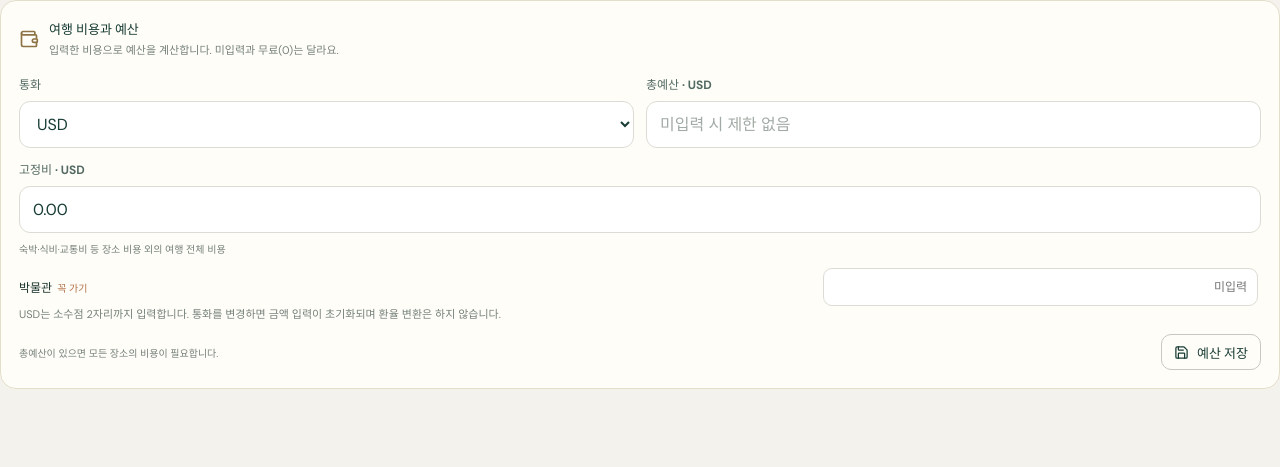
BudgetPlanner › loads prices, blocks unsaved planning, and saves exact decimal amounts
This screenshot has width=1280, height=467.
Expected: the field named "박물관 예상 비용" is shown, left=823, top=268, right=1258, bottom=306
Type "100.99" into the field labelled "총예산" at (954, 124), box left=646, top=101, right=1261, bottom=148
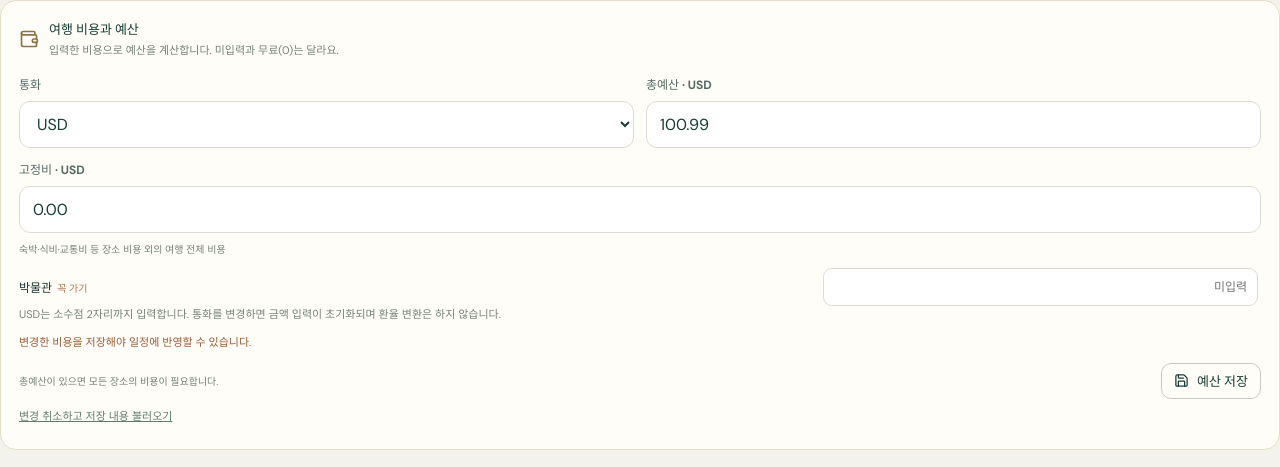
Replace the text in the field labelled "고정비" with "12.30" at (640, 209), box left=19, top=186, right=1261, bottom=233
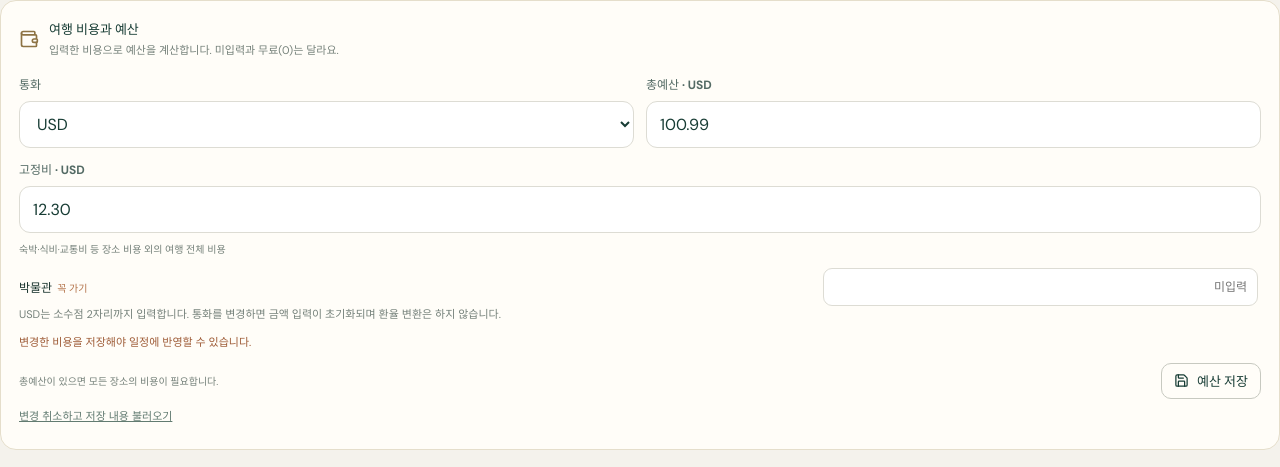
Type "0.29" into the field named "박물관 예상 비용" at (1040, 287), box left=823, top=268, right=1258, bottom=306
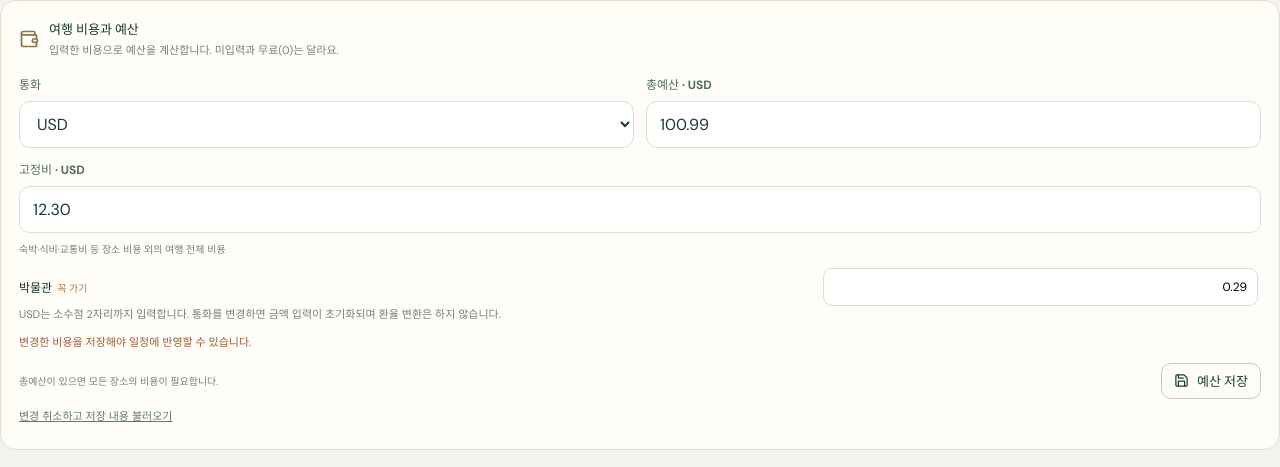
Click the button "예산 저장" at (1211, 381), box left=1161, top=363, right=1261, bottom=399
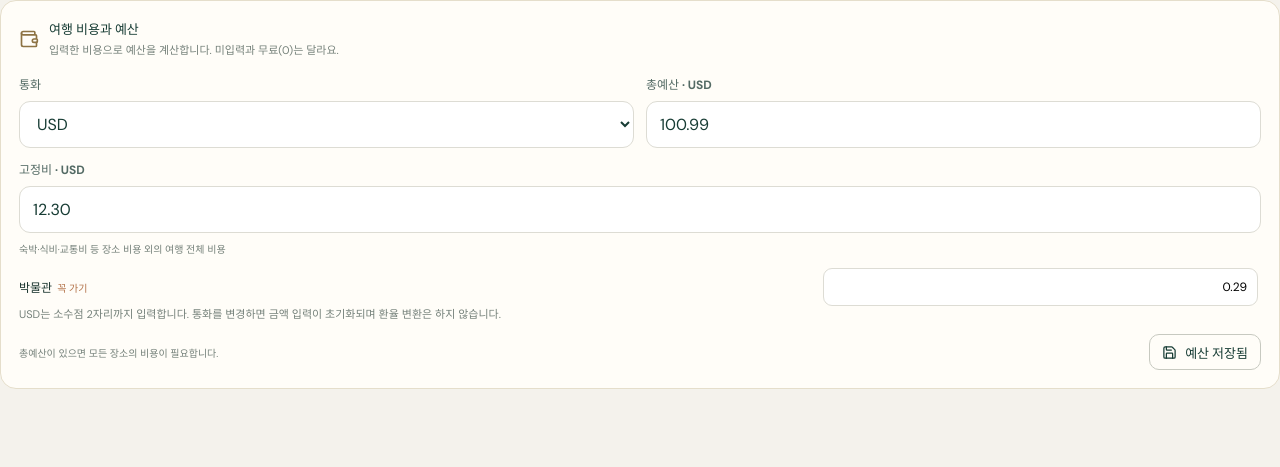
Now the button "예산 저장됨" is shown, box left=1149, top=334, right=1261, bottom=370
